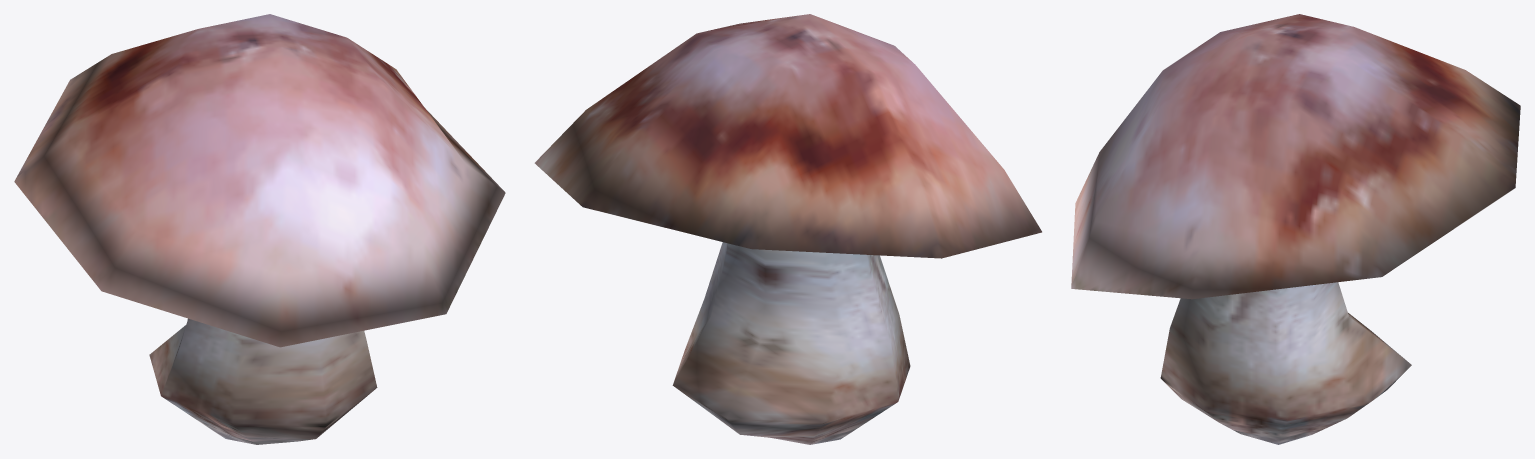
Rendered from SM_TOADSTOOL_03.FBX.
3 renders of one model, left to right at view 1: azimuth 30°, elevation 25°; view 2: azimuth 150°, elevation 25°; view 3: azimuth 270°, elevation 25°, orthographic. The views are drawn at different scales.
Parts seen in each view (by area): view 1: SM_TOADSTOOL_03; view 2: SM_TOADSTOOL_03; view 3: SM_TOADSTOOL_03.
Part boxes in pixels (left/top/right/bottom): SM_TOADSTOOL_03: left=14, top=14, right=505, bottom=444; SM_TOADSTOOL_03: left=534, top=14, right=1041, bottom=444; SM_TOADSTOOL_03: left=1071, top=14, right=1520, bottom=444.
Size of the model in its own units: 11.43 by 11.04 by 10.53.
